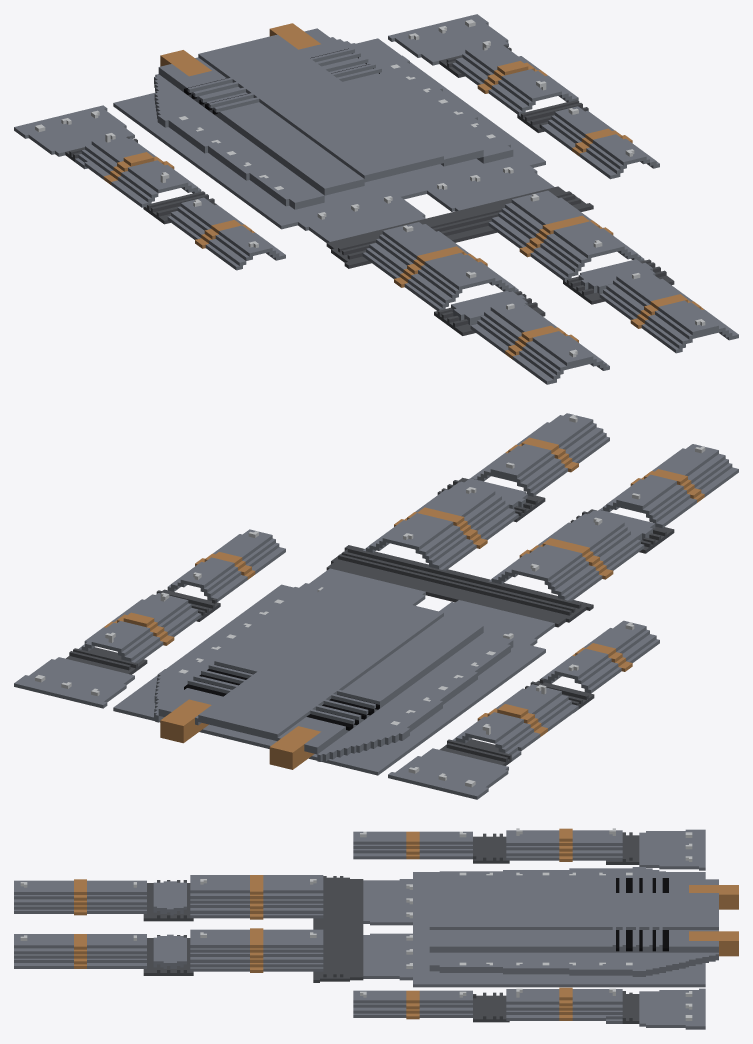
File: armor_ch_metal_sheets_chain.glb
3 views of the same model, one above another, from view 1: azimuth 30°, elevation 25°; view 2: azimuth 150°, elevation 25°; view 3: azimuth 270°, elevation 25° (orthographic). The views are drawn at different scales.
Visible parts, largest first — view 1: armor_ch_metal_sheets_chain:compound; view 2: armor_ch_metal_sheets_chain:compound; view 3: armor_ch_metal_sheets_chain:compound.
Part boxes in pixels (bbox=[...]): armor_ch_metal_sheets_chain:compound: bbox=[14, 14, 738, 384]; armor_ch_metal_sheets_chain:compound: bbox=[14, 413, 738, 799]; armor_ch_metal_sheets_chain:compound: bbox=[14, 828, 738, 1029].
Bounding box in the file's own units: 0.84 × 0.048 × 1.31.
